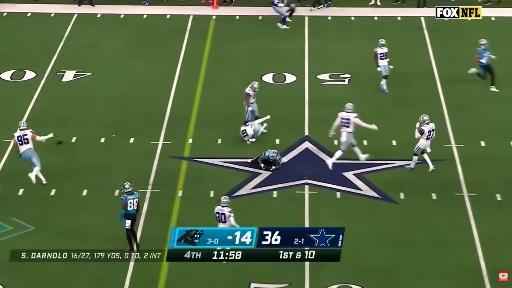Helmet: (123, 180, 133, 195), (269, 150, 279, 163), (219, 197, 231, 207), (345, 103, 357, 113), (419, 114, 431, 123), (251, 81, 261, 91), (477, 38, 487, 48), (17, 121, 27, 130), (378, 39, 387, 48)
Jersey: (14, 130, 33, 153), (215, 206, 234, 227), (121, 192, 139, 214), (339, 112, 358, 132), (419, 123, 435, 141), (262, 150, 281, 165), (374, 47, 388, 66), (240, 123, 254, 140), (476, 48, 490, 65), (245, 86, 256, 103), (271, 0, 279, 6)
Player: (326, 104, 377, 169), (13, 122, 53, 184), (406, 115, 435, 171), (468, 39, 498, 91), (120, 183, 139, 251), (374, 39, 392, 93), (240, 116, 270, 142), (215, 196, 239, 227), (244, 82, 259, 124), (252, 150, 281, 170), (271, 0, 291, 28)
